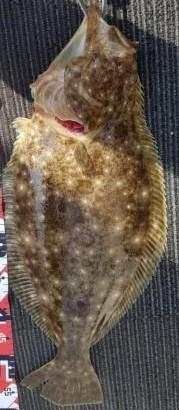fish: (3, 4, 168, 407)
